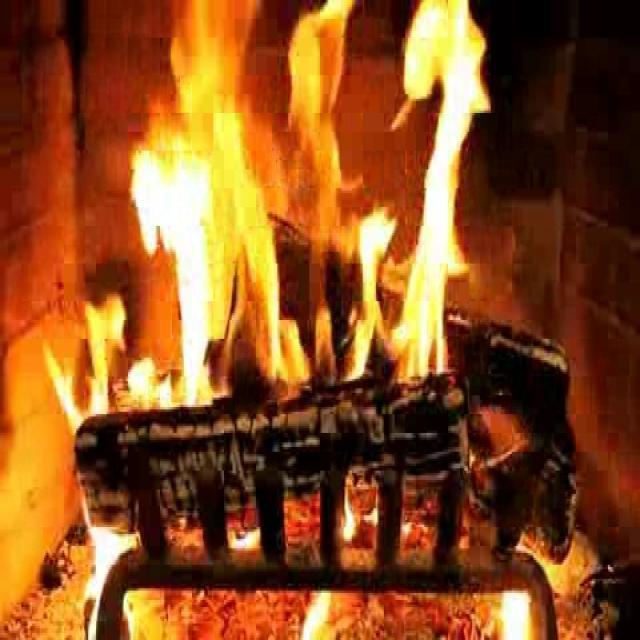Fire: (118, 13, 490, 430)
